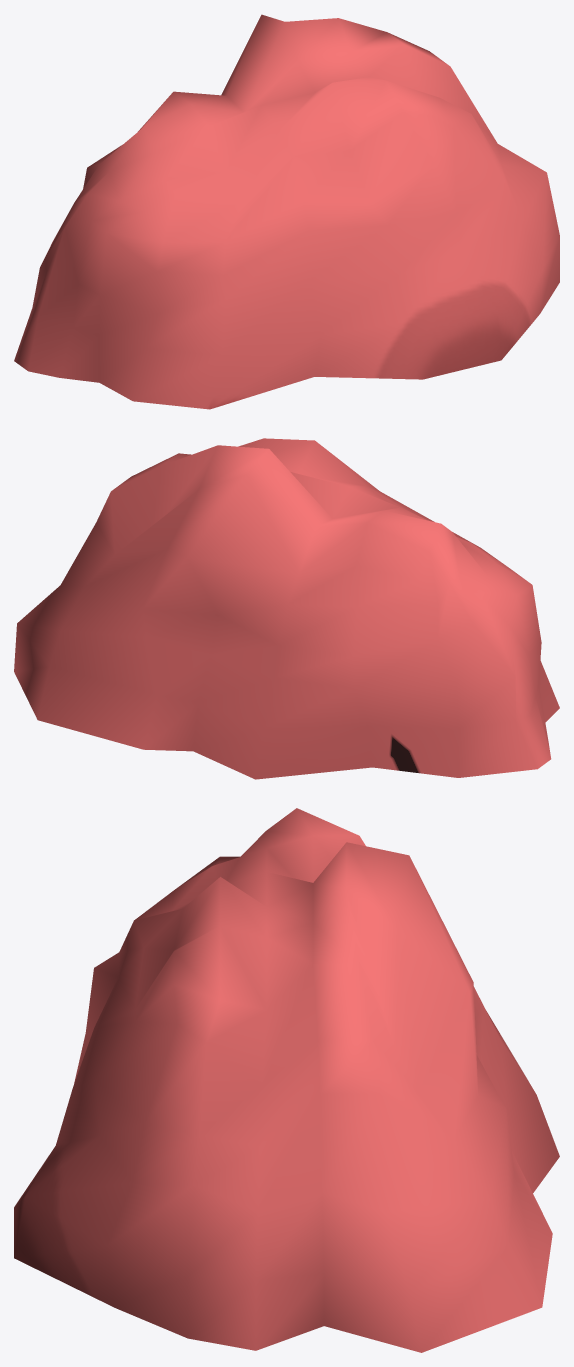
Rendered from rock_1.obj.
3 views of the same model, one above another, from view 1: azimuth 30°, elevation 25°; view 2: azimuth 150°, elevation 25°; view 3: azimuth 270°, elevation 25° (orthographic). The views are drawn at different scales.
Visible parts, largest first — view 1: pCube2; view 2: pCube2; view 3: pCube2.
Boxes of the visible parts, bbox=[...] form: pCube2: bbox=[14, 14, 559, 409]; pCube2: bbox=[14, 438, 559, 779]; pCube2: bbox=[14, 808, 559, 1352].
Size of the model in its own units: 14.88 by 7.44 by 10.31.
